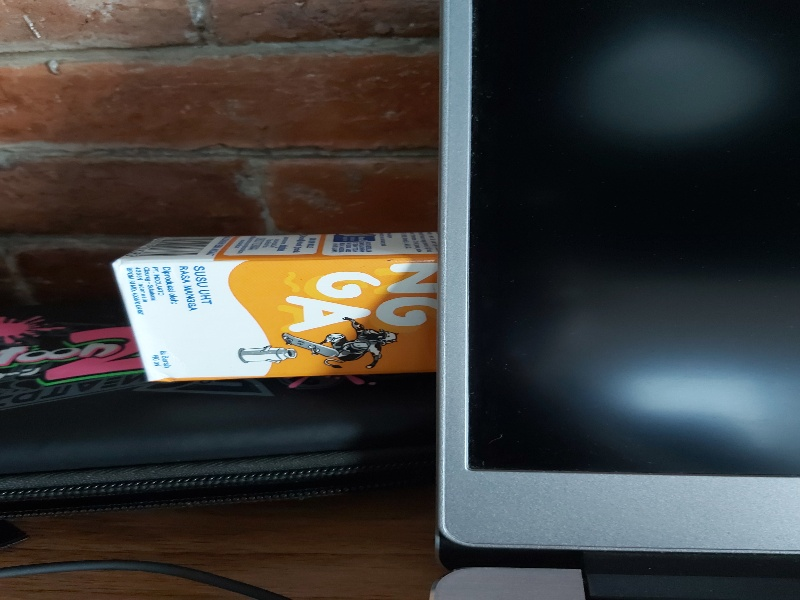mangga: (107, 232, 438, 385)
